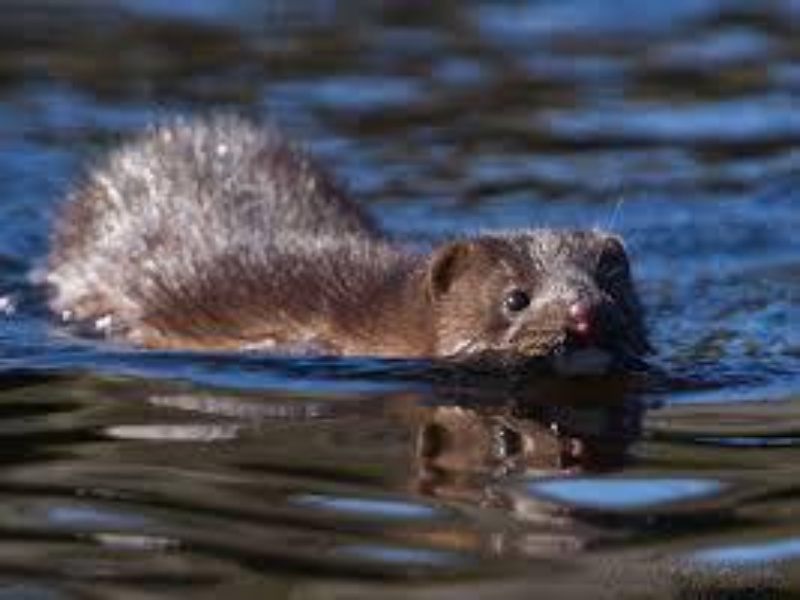minkish: (39, 115, 647, 364)
